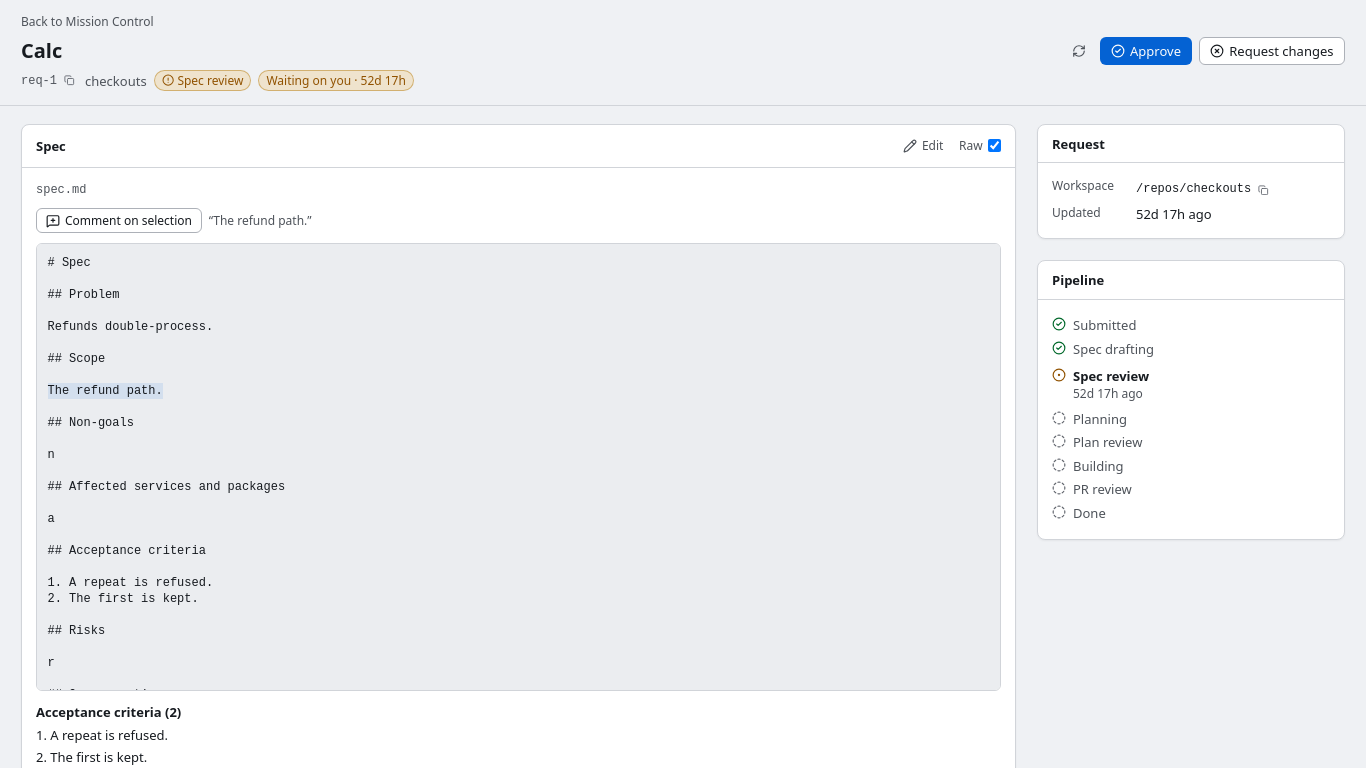
Test case: a pending comment can be removed before sending
Expected: the heading "Calc" is shown, [21,37,62,64]
Expected: the button "Approve" is enabled, [1100,37,1192,65]
Click the button "Comment on selection" at [119, 221], box [36,208,202,233]
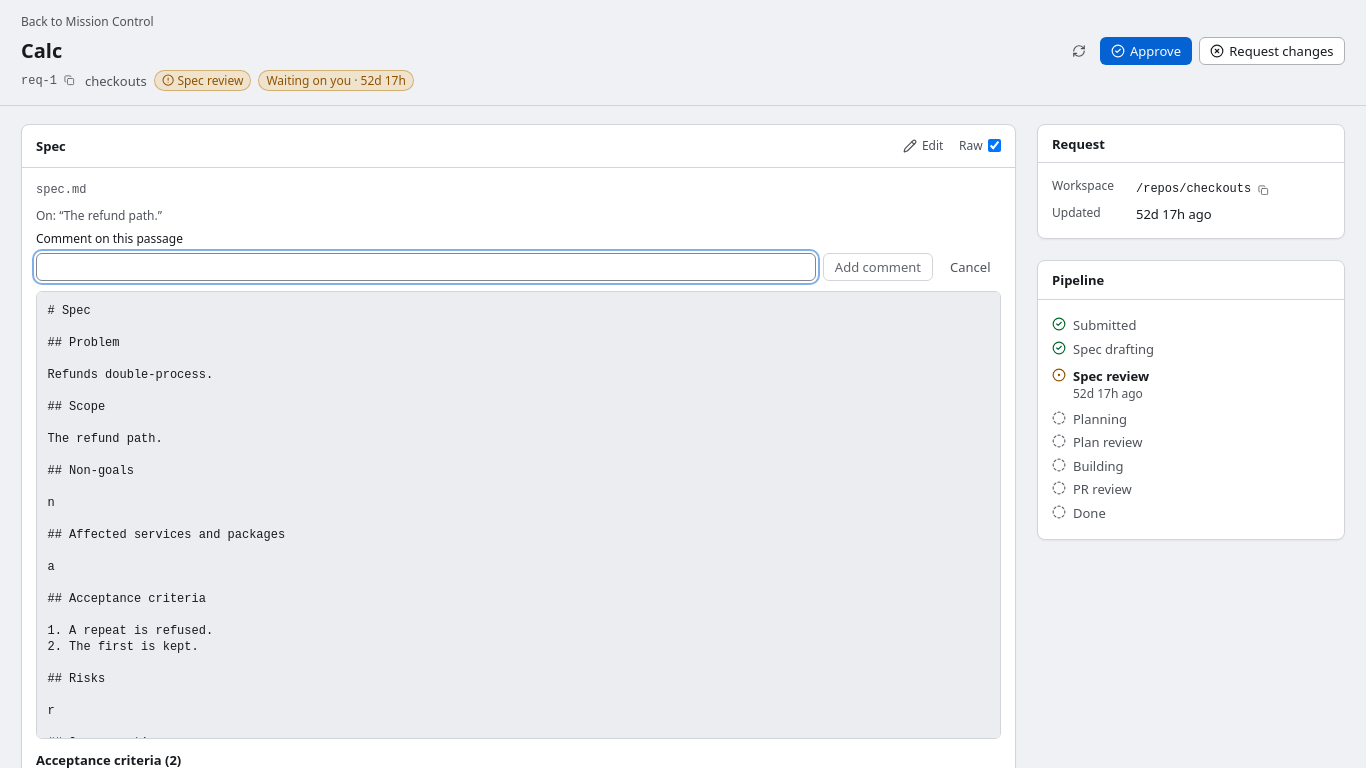
Type "name the endpoint" into the field labelled "Comment on this passage" at [426, 266], box [36,252,816,280]
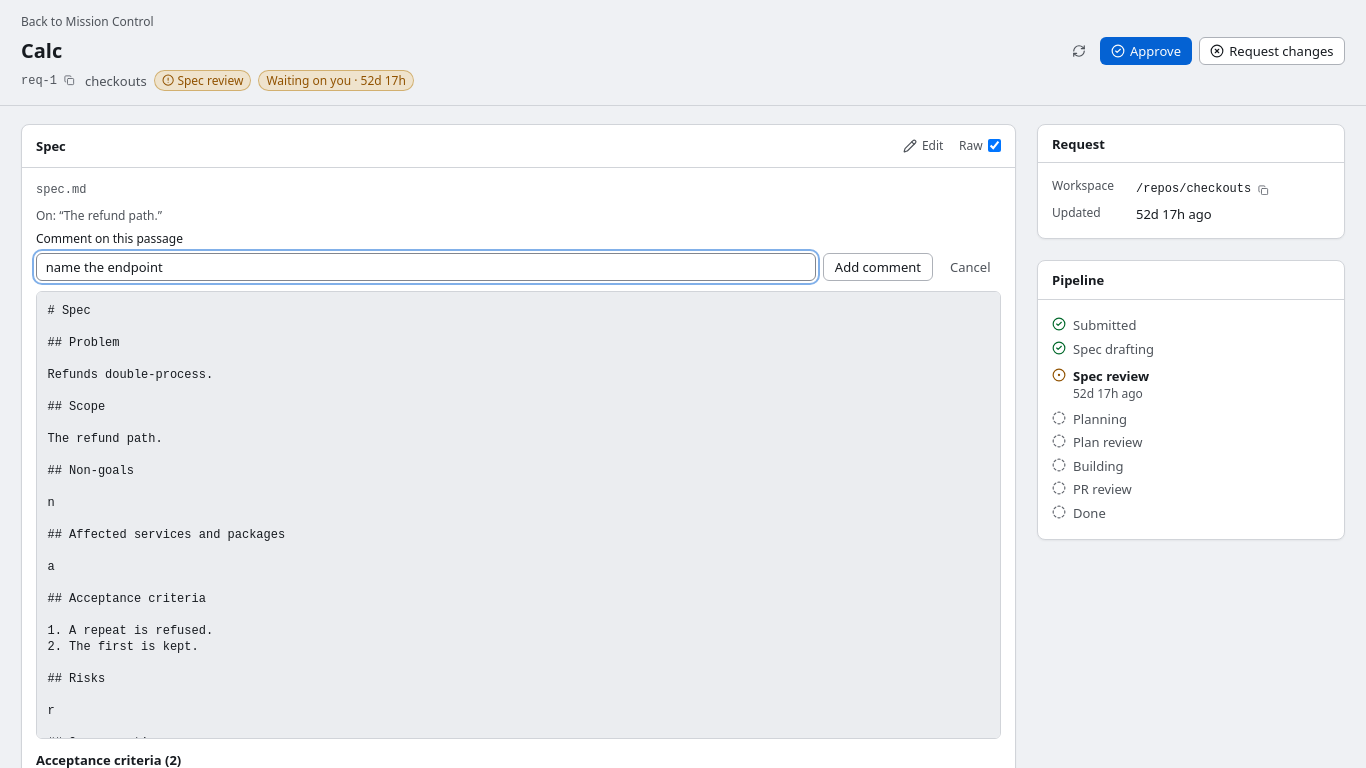
Click the button "Add comment" at [878, 266], box [823,252,933,280]
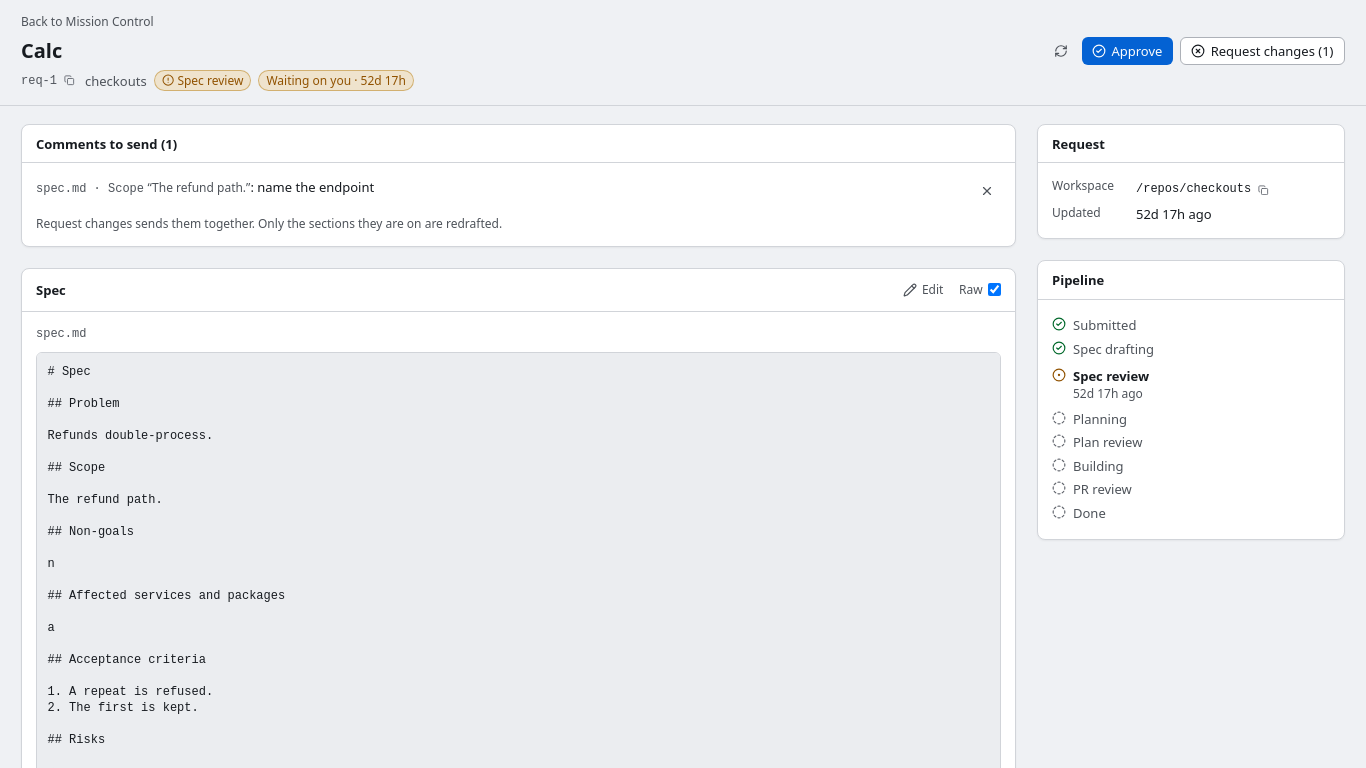
Click the button named "Remove comment 1" at [987, 191], box [973,177,1001,205]
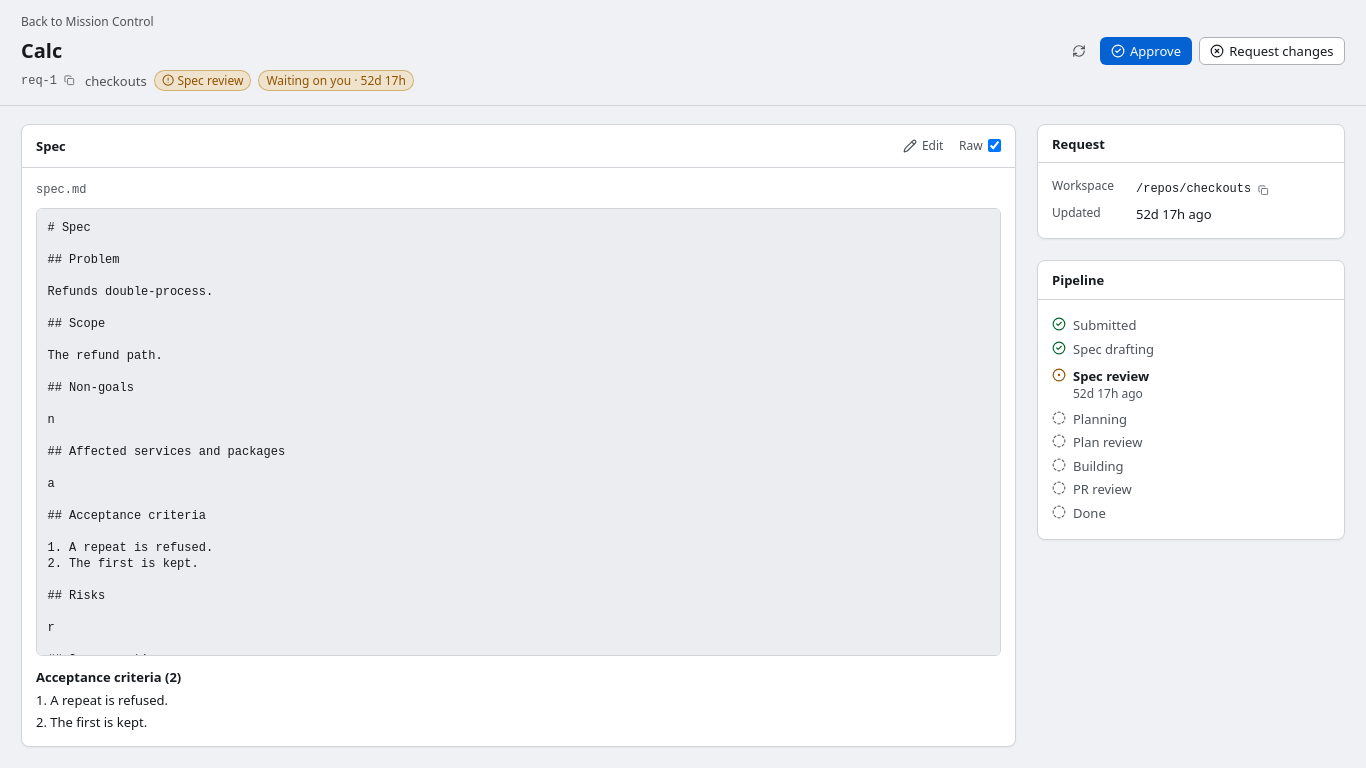
Expected: the button "Request changes" is enabled, [1198,37,1345,65]
Expected: the heading "Comments to send" is gone
